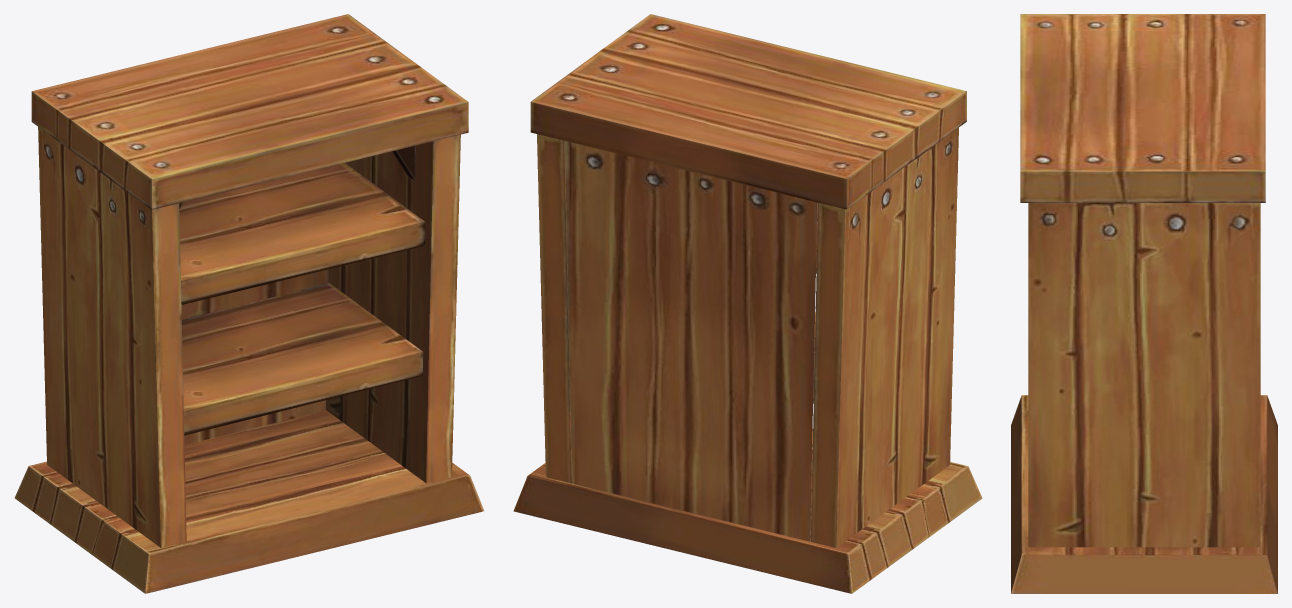
The model's file is SM_cupboardsmall_00.gltf.
3 renders of one model, left to right at view 1: azimuth 30°, elevation 25°; view 2: azimuth 150°, elevation 25°; view 3: azimuth 270°, elevation 25°, orthographic. The views are drawn at different scales.
Visible parts, largest first — view 1: SM_cupboardsmall_00; view 2: SM_cupboardsmall_00; view 3: SM_cupboardsmall_00.
Part boxes in pixels (<box>): SM_cupboardsmall_00: <box>14,14,484,593</box>; SM_cupboardsmall_00: <box>513,14,982,593</box>; SM_cupboardsmall_00: <box>1011,14,1277,593</box>.
Bounding box in the file's own units: 0.9993 × 1.15 × 0.6677.
Materials: 1 (1 with a texture image).
